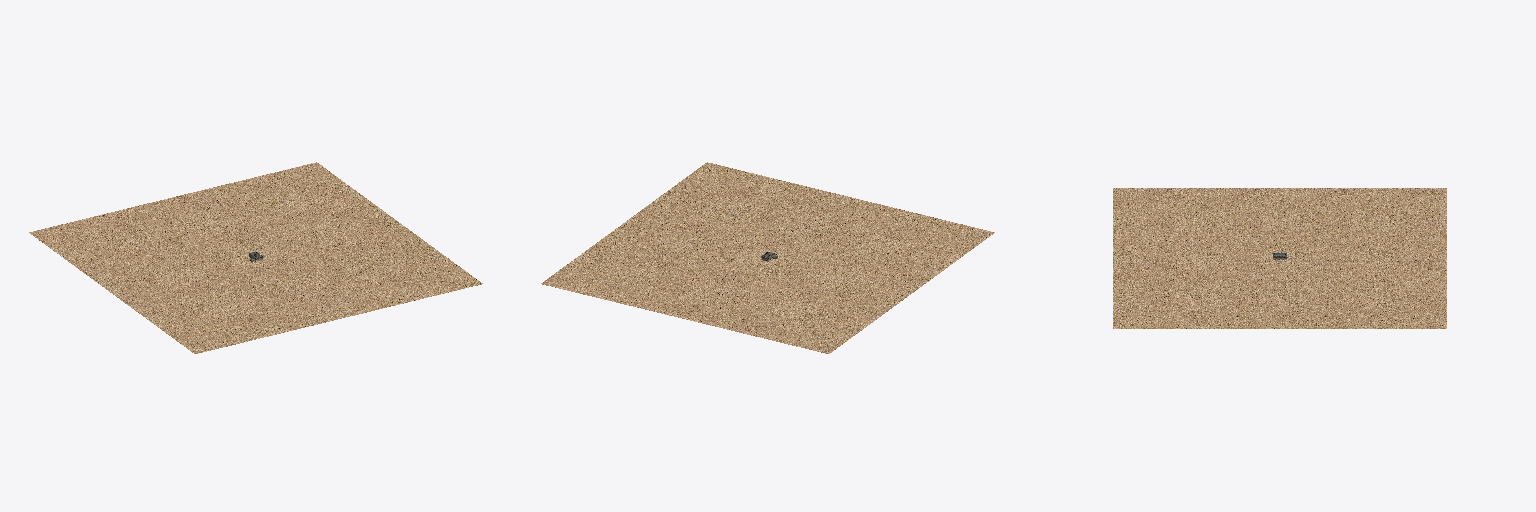
The picture shows the model from 3 angles: view 1: azimuth 30°, elevation 25°; view 2: azimuth 150°, elevation 25°; view 3: azimuth 270°, elevation 25°; orthographic projection.
Visible parts, largest first — view 1: Plane; view 2: Plane; view 3: Plane.
Boxes of the visible parts, box(x1,y1,x2,y2) form: Plane: box(29, 162, 482, 353); Plane: box(541, 162, 994, 353); Plane: box(1113, 188, 1446, 328).
Size of the model in its own units: 196 by 2.98 by 196.
19 materials, 11 textured.